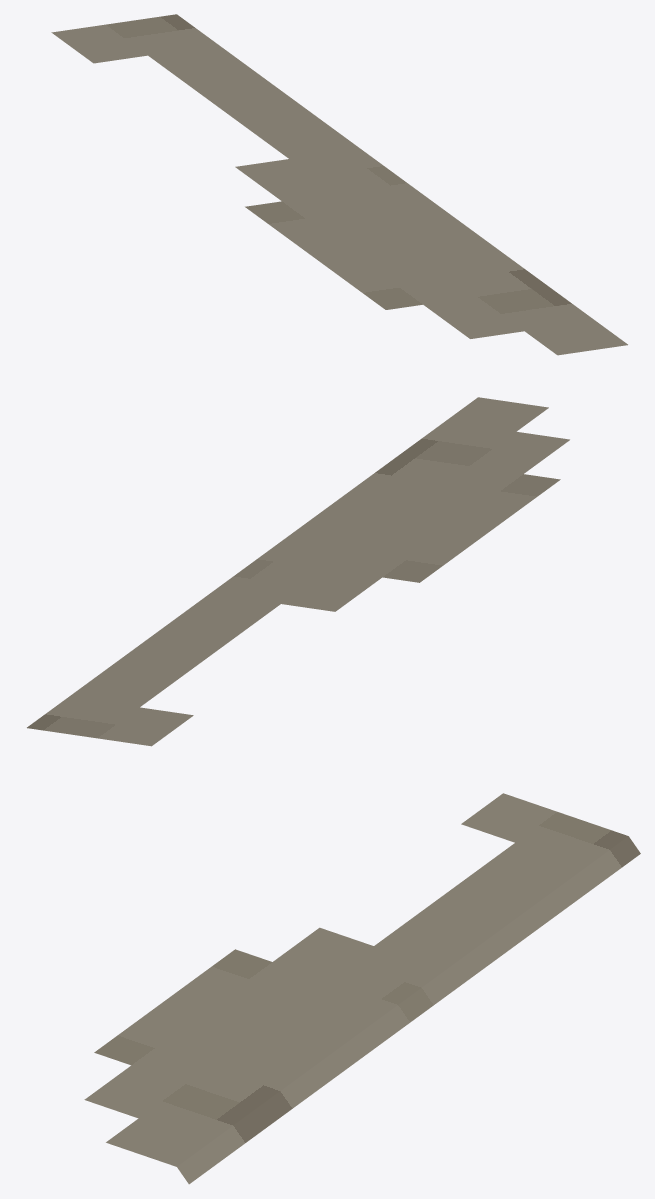
3 views of the same model, one above another, from view 1: azimuth 30°, elevation 25°; view 2: azimuth 150°, elevation 25°; view 3: azimuth 330°, elevation 25° (orthographic).
Size of the model in its own units: 0.2236 by 0.0373 by 1.
Materials: 1 (1 with a texture image).
